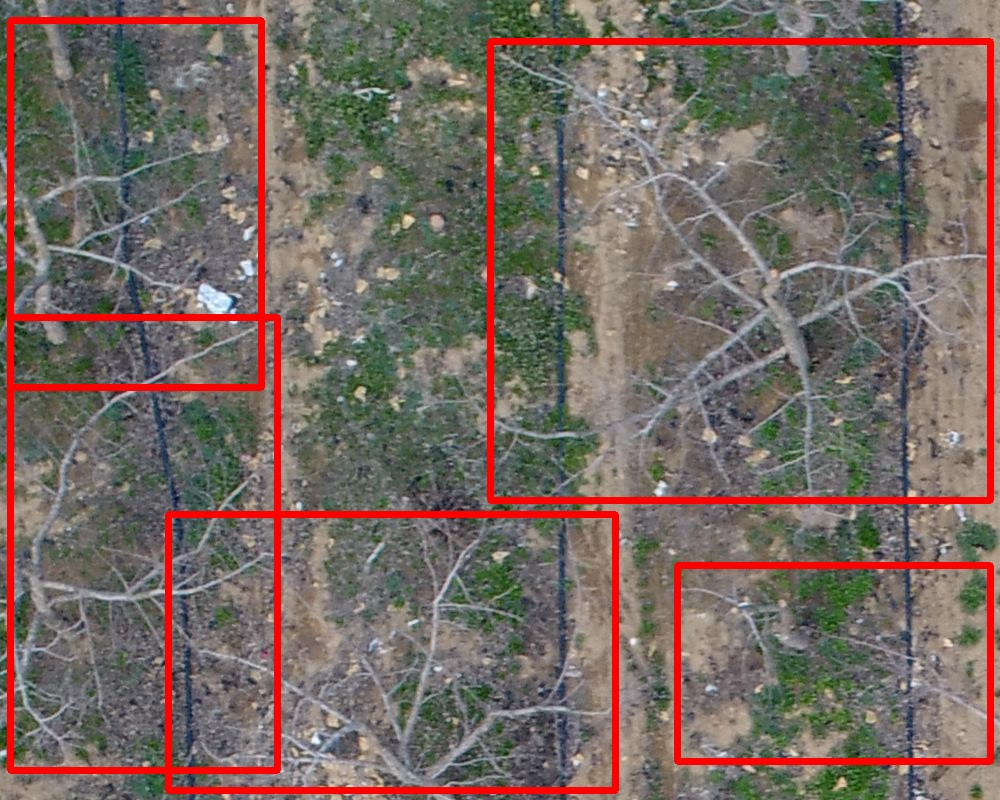apple: (490, 41, 990, 500), (168, 514, 615, 790), (10, 317, 277, 770), (10, 20, 261, 387), (677, 565, 990, 761)
